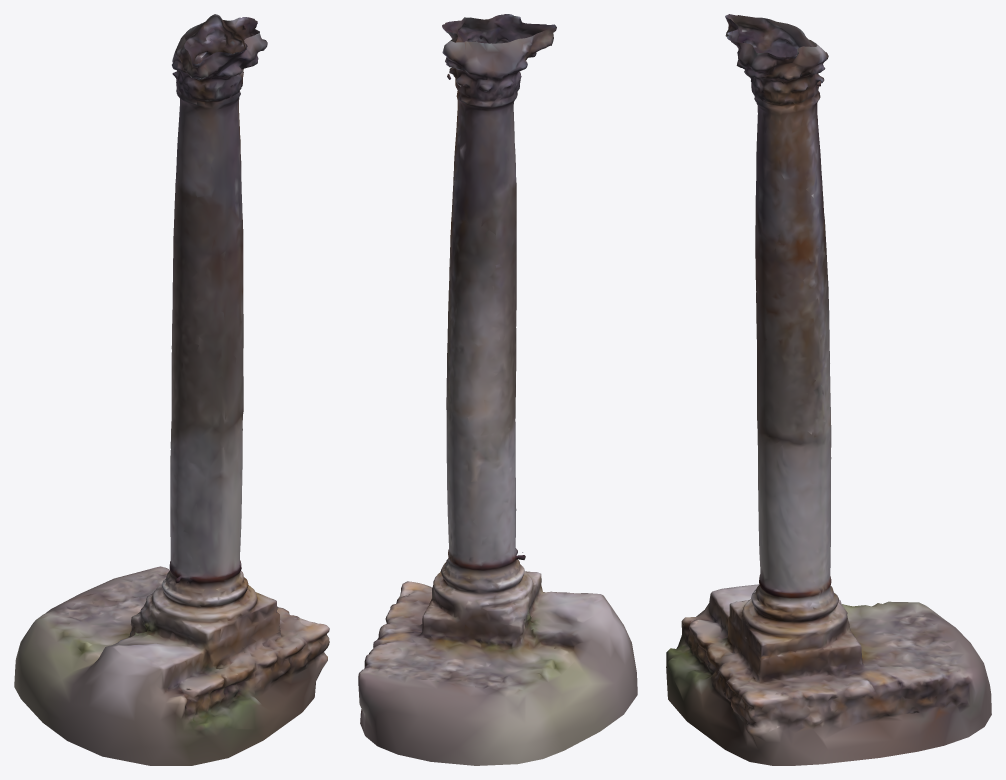
The model's file is coloana_low_poly.fbx.
The picture shows the model from 3 angles, left to right: view 1: azimuth 30°, elevation 25°; view 2: azimuth 150°, elevation 25°; view 3: azimuth 270°, elevation 25°; orthographic projection. The views are drawn at different scales.
Visible parts, largest first — view 1: object_low; view 2: object_low; view 3: object_low.
Boxes of the visible parts, x1=… form: object_low: x1=14, y1=14, x2=329, y2=765; object_low: x1=358, y1=14, x2=637, y2=765; object_low: x1=666, y1=14, x2=991, y2=765.
Size of the model in its own units: 188 by 493 by 213.
